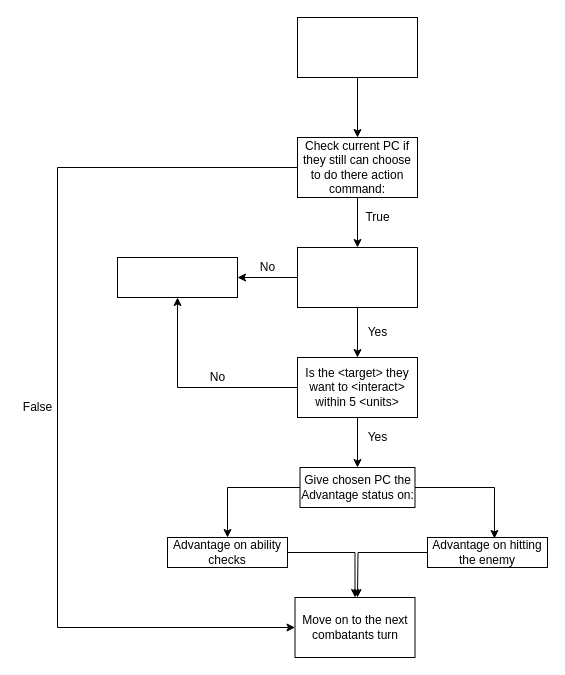
The diagram is 565 pixels wide and 675 high, and some of its shapes have lost their labels. The box of each missing label's shape, as (x1, y1, x2, y2) in pixels:
Do they choose to give up their action to do the Help action?: (296, 246, 418, 308)
During your turn IN COMBAT :: (296, 16, 418, 78)
Return to normal combat actions: (116, 256, 238, 298)
